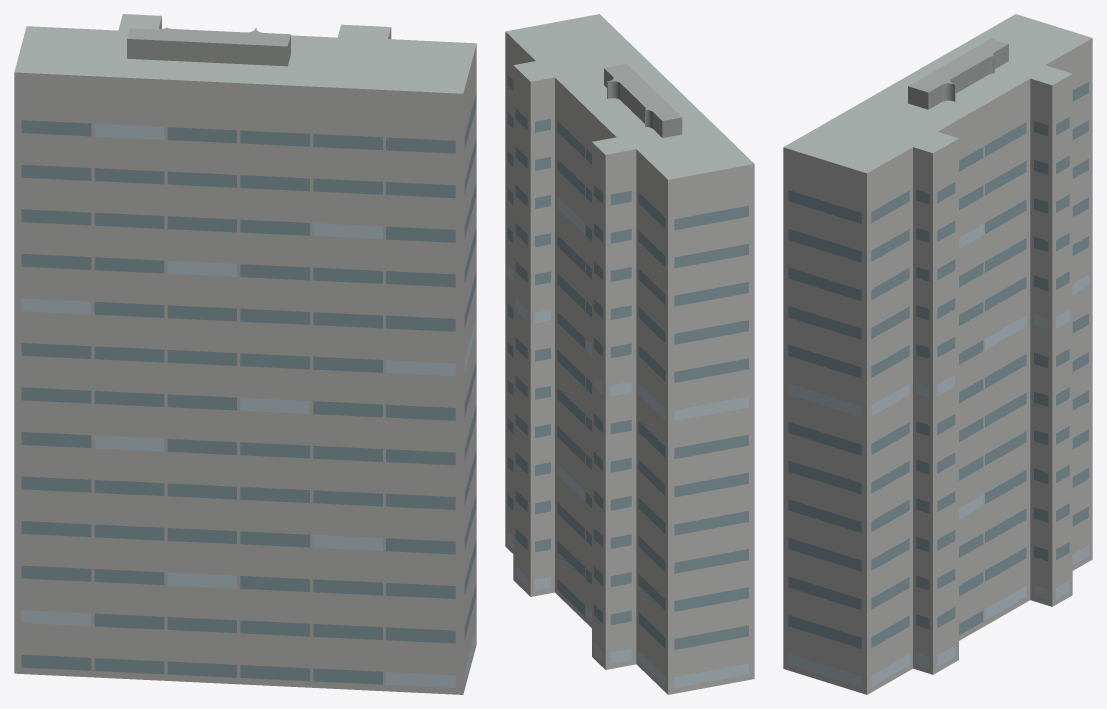
Rendered from fallback-jamsil-trizium-328.glb.
3 renders of one model, left to right at view 1: azimuth 30°, elevation 25°; view 2: azimuth 150°, elevation 25°; view 3: azimuth 270°, elevation 25°, orthographic. The views are drawn at different scales.
Parts seen in each view (by area): view 1: fallback-jamsil-trizium-328; view 2: fallback-jamsil-trizium-328; view 3: fallback-jamsil-trizium-328.
Boxes of the visible parts, bbox=[...] form: fallback-jamsil-trizium-328: bbox=[14, 14, 476, 694]; fallback-jamsil-trizium-328: bbox=[505, 14, 754, 694]; fallback-jamsil-trizium-328: bbox=[783, 14, 1092, 694].
Size of the model in its own units: 47.61 by 75 by 39.05.
